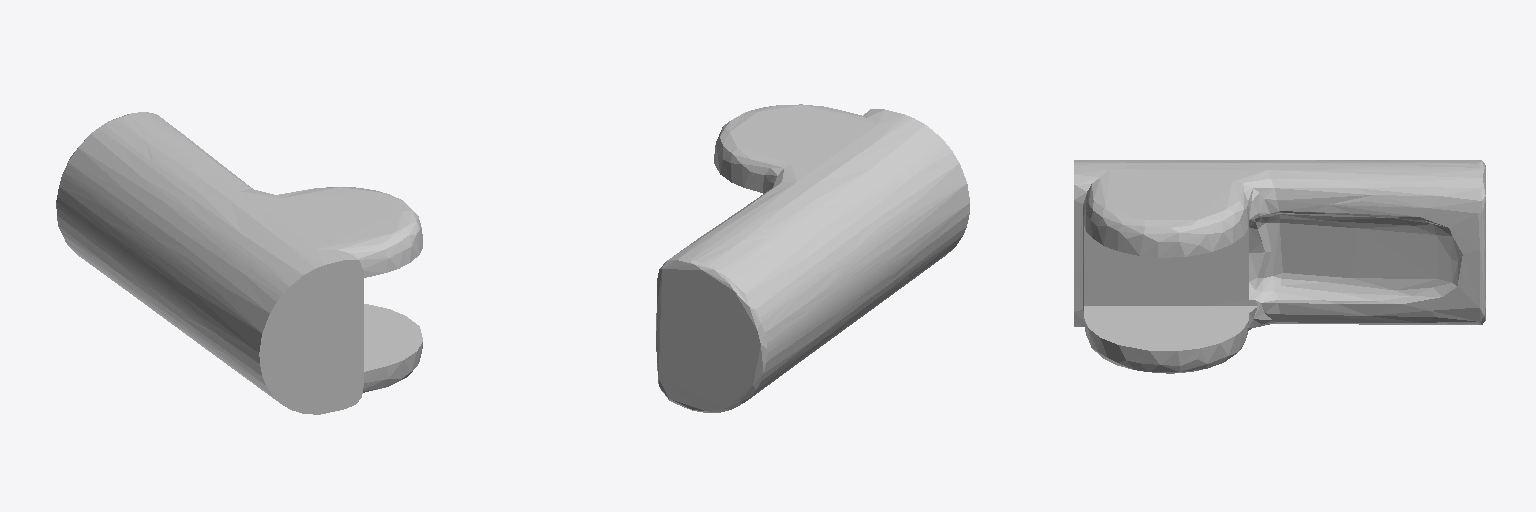
Rendered from shoulder_pan.obj.
The picture shows the model from 3 angles: view 1: azimuth 30°, elevation 25°; view 2: azimuth 150°, elevation 25°; view 3: azimuth 270°, elevation 25°; orthographic projection.
Parts seen in each view (by area): view 1: shoulder_pan_M_shoulder_pan_MShape; view 2: shoulder_pan_M_shoulder_pan_MShape; view 3: shoulder_pan_M_shoulder_pan_MShape.
Boxes of the visible parts, x1=… form: shoulder_pan_M_shoulder_pan_MShape: x1=56, y1=112, x2=422, y2=414; shoulder_pan_M_shoulder_pan_MShape: x1=656, y1=104, x2=969, y2=412; shoulder_pan_M_shoulder_pan_MShape: x1=1074, y1=160, x2=1485, y2=373.
Size of the model in its own units: 0.3536 by 0.2543 by 0.6329.